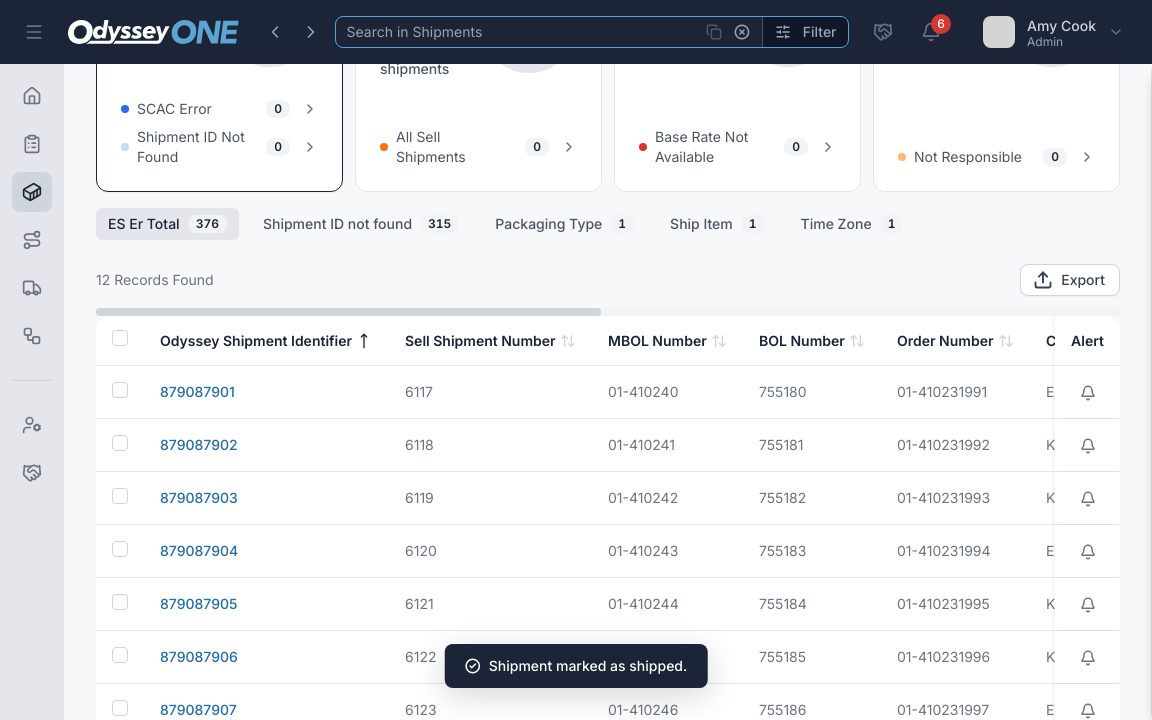
Test: ExecutedShipmentDetailsRoute — sheet policy (S159) › an erroring dropdown field shows its message
The image size is (1152, 720).
(page scrolled)
Click the button "879087901": (197, 392) [160,382,235,402]
(page scrolled)
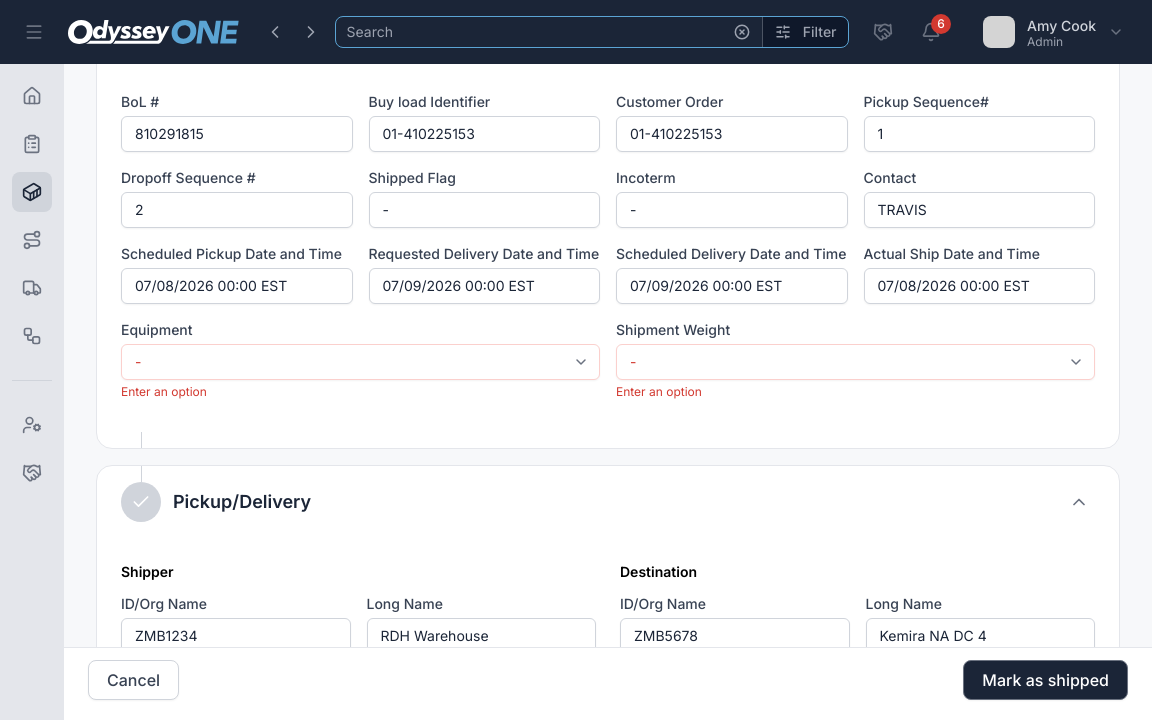
Expected: the text "Enter an option" below "Equipment" is shown, [121,384,207,399]
